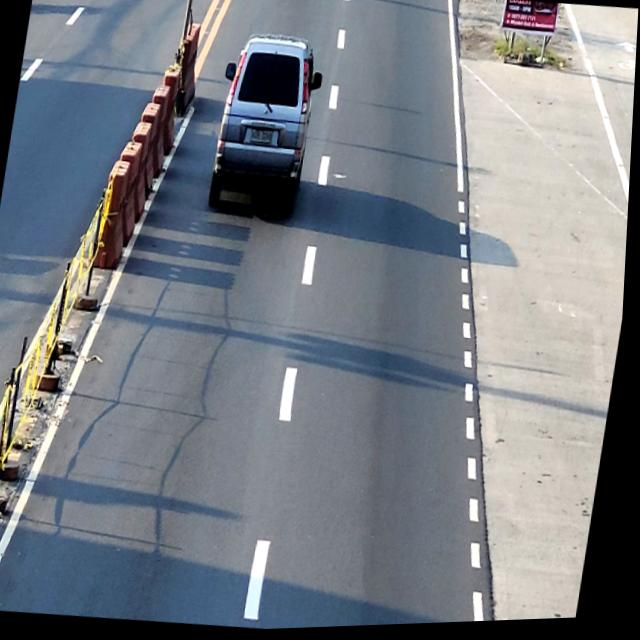Car: (206, 30, 329, 219)
License-Plate: (250, 129, 275, 149)
